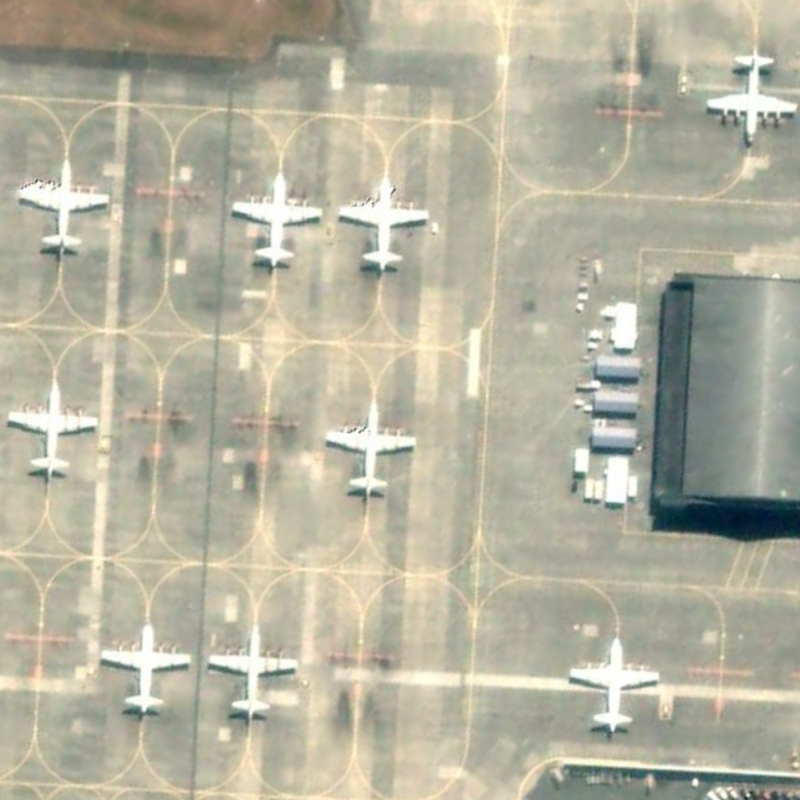A9: (328, 166, 438, 283), (10, 146, 116, 266), (200, 614, 305, 732), (226, 161, 330, 278), (4, 368, 104, 489), (320, 389, 419, 511), (697, 39, 800, 155), (560, 625, 665, 738), (95, 611, 198, 723)
